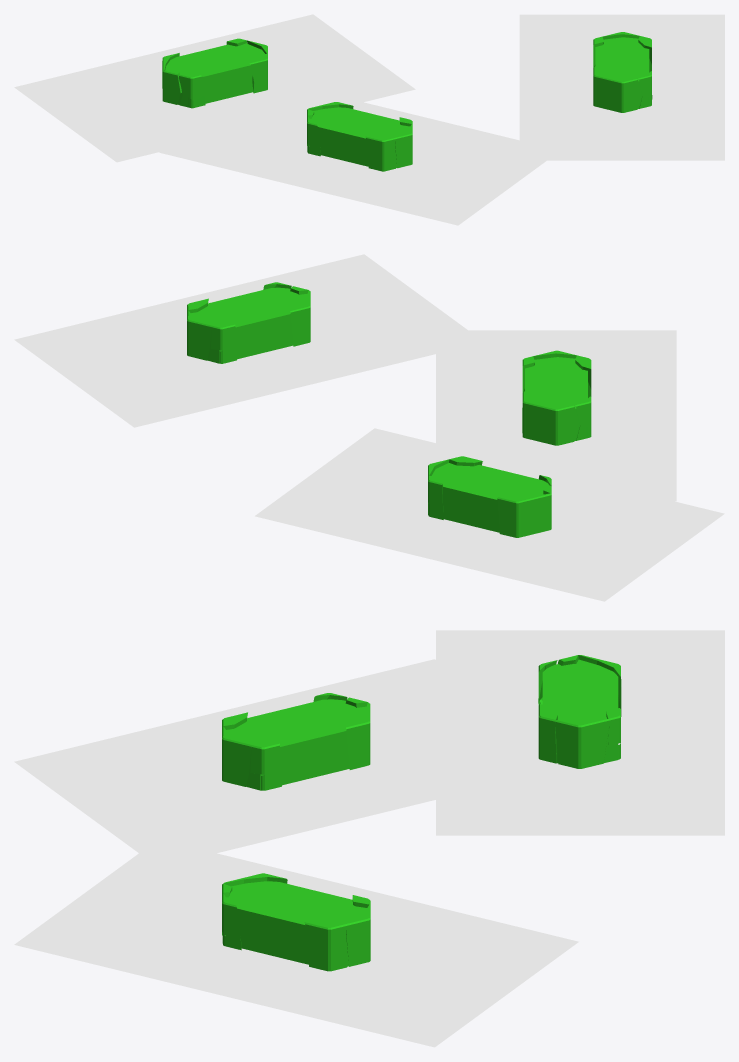
File: OpenClose.fbx
The picture shows the model from 3 angles, top to bottom: view 1: azimuth 30°, elevation 25°; view 2: azimuth 150°, elevation 25°; view 3: azimuth 270°, elevation 25°; orthographic projection. The views are drawn at different scales.
Parts seen in each view (by area): view 1: Shadow (×3), Model (×3), HexGib09 (×2), HexGib05 (×2), HexGib04, HexGib01, HexGib06; view 2: Shadow (×3), Model (×3), HexGib04 (×3), HexGib01, HexGib05, HexGib02; view 3: Shadow (×3), Model (×3), HexGib01 (×3), HexGib09 (×2), HexGib04, HexGib02.
Part boxes in pixels (x1=…): Shadow (×3): x1=14, y1=14, x2=724, y2=225; Model (×3): x1=162, y1=37, x2=649, y2=167; HexGib09 (×2): x1=249, y1=53, x2=395, y2=171; HexGib05 (×2): x1=163, y1=70, x2=641, y2=112; HexGib04: x1=593, y1=67, x2=623, y2=112; HexGib01: x1=394, y1=124, x2=412, y2=168; HexGib06: x1=178, y1=74, x2=205, y2=100; Shadow (×3): x1=14, y1=254, x2=724, y2=601; Model (×3): x1=191, y1=287, x2=587, y2=537; HexGib04 (×3): x1=290, y1=290, x2=557, y2=537; HexGib01: x1=187, y1=310, x2=211, y2=360; HexGib05: x1=558, y1=404, x2=578, y2=445; HexGib02: x1=211, y1=322, x2=236, y2=352; Shadow (×3): x1=14, y1=630, x2=724, y2=1047; Model (×3): x1=222, y1=659, x2=618, y2=966; HexGib01 (×3): x1=222, y1=719, x2=609, y2=966; HexGib09 (×2): x1=304, y1=704, x2=557, y2=971; HexGib04: x1=346, y1=702, x2=370, y2=769; HexGib02: x1=250, y1=740, x2=281, y2=777.
Bounding box in the file's own units: 6.95 × 0.3461 × 5.01.
